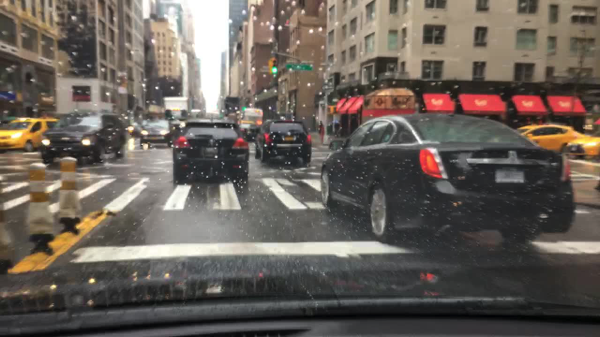car: (320, 117, 575, 241), (37, 110, 128, 167), (173, 117, 249, 183), (255, 118, 312, 167), (516, 122, 584, 155), (1, 118, 59, 152), (566, 123, 600, 158), (140, 118, 173, 146), (129, 119, 146, 138)
person: (319, 121, 325, 143)
traffic light: (325, 104, 336, 116), (272, 57, 278, 78), (266, 56, 272, 77), (239, 104, 245, 111)
traffic sign: (285, 65, 313, 71)
truck: (161, 94, 188, 131), (239, 107, 264, 132)
